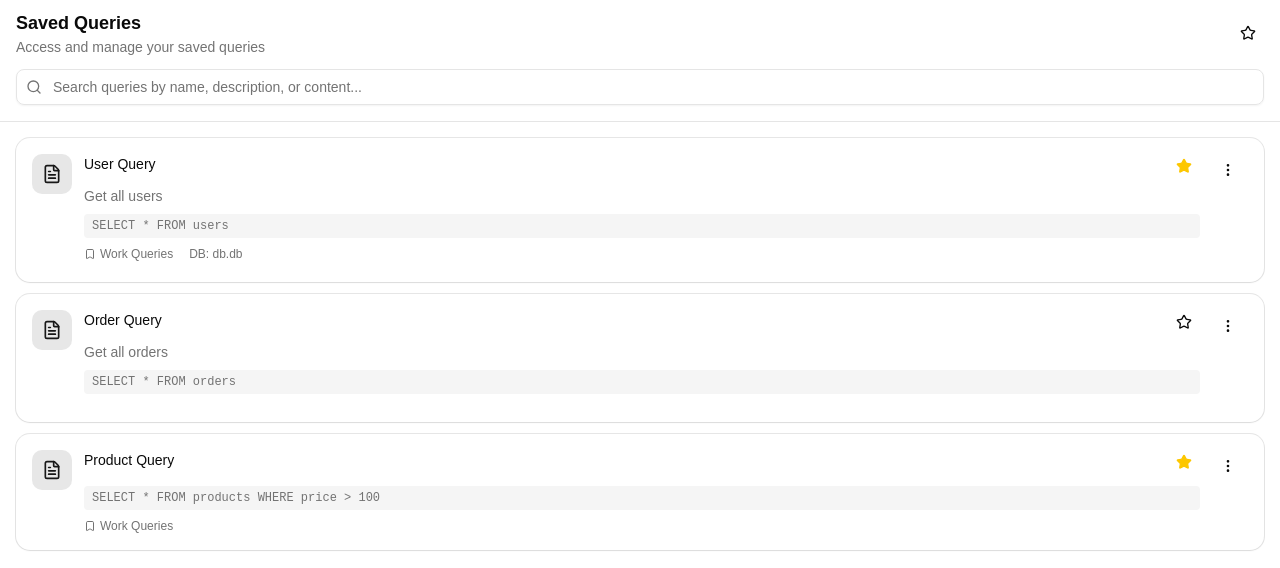
Test case: savedQueriesPanel › search functionality › should clear search when clear button clicked
Type "test" into the search field with placeholder "Search queries by name, description, or content..." at (640, 87), box [16,69,1264,105]
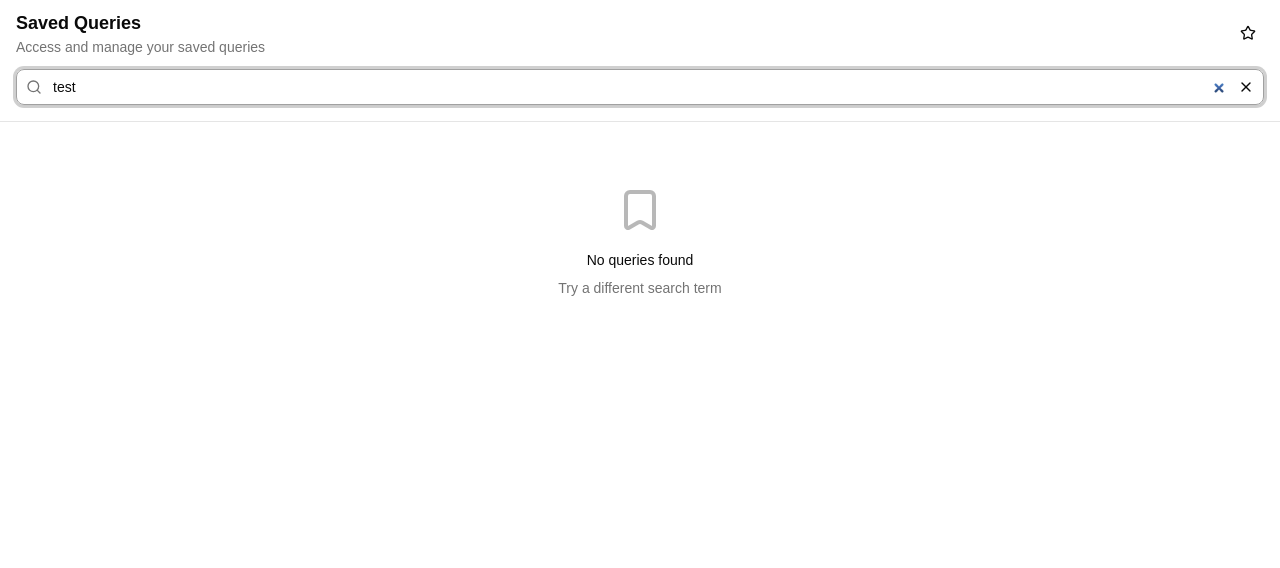
Click the 2nd button at (1246, 87), box [1232,73,1260,101]
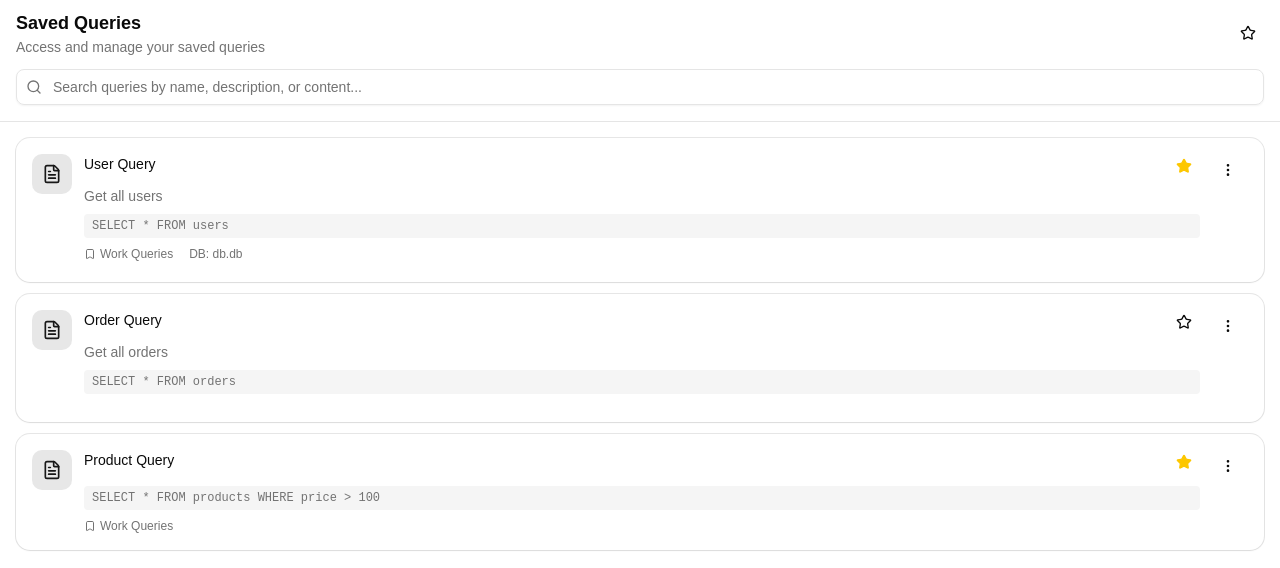
Check: the search field with placeholder "Search queries by name, description, or content..." is empty, box [16,69,1264,105]
